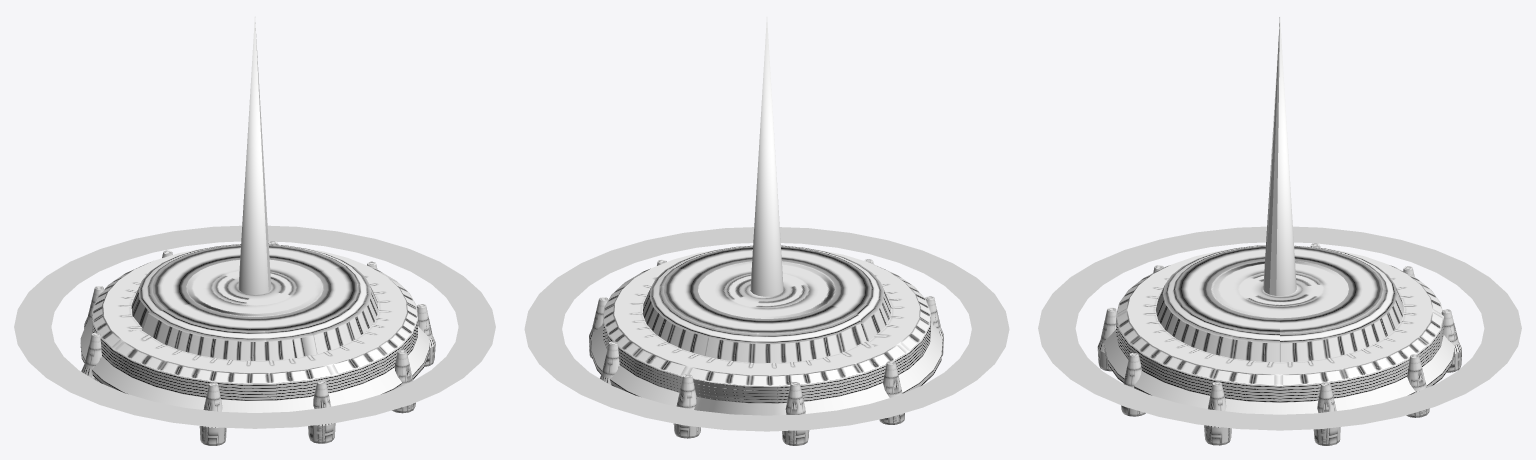
Rendered from Rumba.fbx.
3 renders of one model, left to right at view 1: azimuth 30°, elevation 25°; view 2: azimuth 150°, elevation 25°; view 3: azimuth 270°, elevation 25°, orthographic.
Visible parts, largest first — view 1: Body, Blade, Spike, Engines; view 2: Body, Blade, Spike, Engines; view 3: Body, Blade, Spike, Engines.
Part boxes in pixels (x1,y1,x2,y2): Body: (80,244,429,412); Blade: (14,225,495,428); Spike: (238,17,271,294); Engines: (81,241,435,445); Body: (591,245,942,415); Blade: (524,227,1009,431); Spike: (750,17,783,296); Engines: (589,259,943,445); Body: (1104,245,1455,414); Blade: (1038,226,1521,430); Spike: (1263,17,1296,295); Engines: (1097,243,1461,445).
Bounding box in the file's own units: 129 × 106 × 129.
